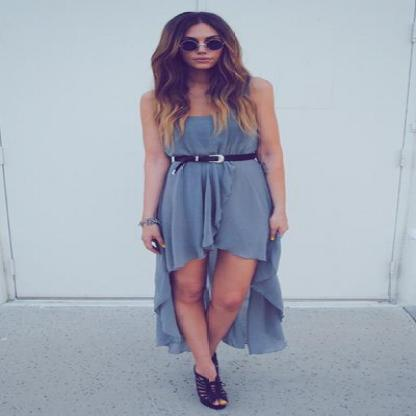dress: (139, 116, 283, 354)
shoe: (196, 374, 228, 410)
sunglass: (204, 36, 228, 58)
